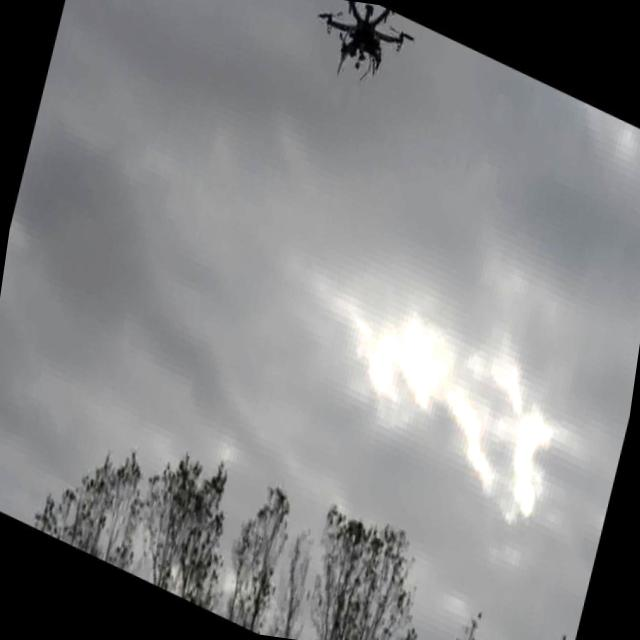drone: (305, 0, 418, 97)
